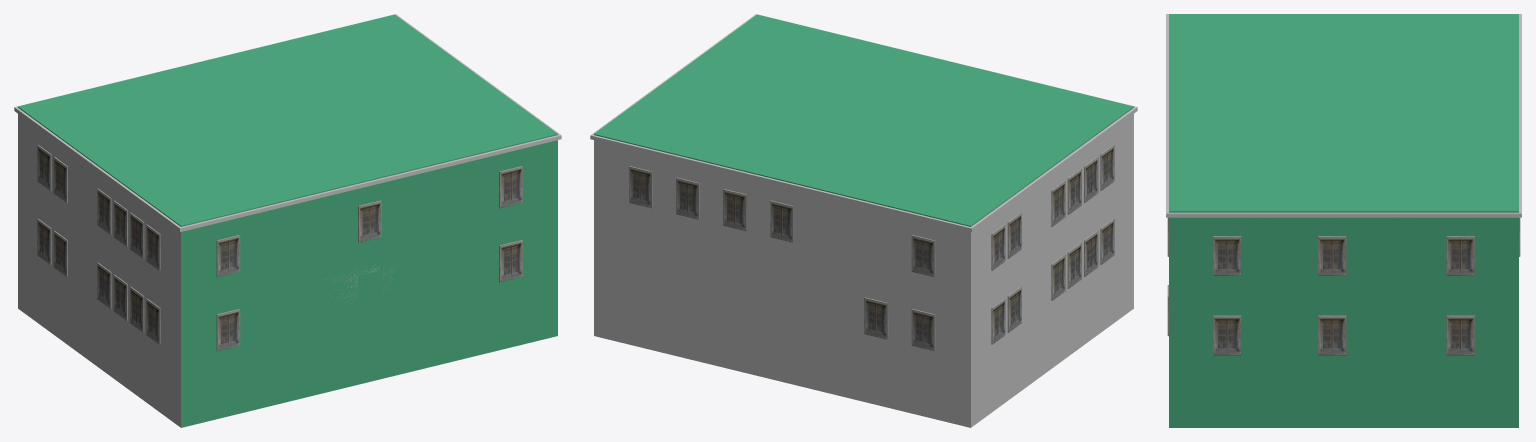
Rendered from ind_bld_04.dae.
3 renders of one model, left to right at view 1: azimuth 30°, elevation 25°; view 2: azimuth 150°, elevation 25°; view 3: azimuth 270°, elevation 25°, orthographic. The views are drawn at different scales.
Visible parts, largest first — view 1: Colmesh-1, ind_bld_c300, ind_bld_c80; view 2: ind_bld_c300, Colmesh-1, nd_bld_c50, ind_bld_c80; view 3: Colmesh-1, ind_bld_c80, ind_bld_c300.
Part boxes in pixels (x1=…): Colmesh-1: x1=18, y1=14, x2=557, y2=427; ind_bld_c300: x1=14, y1=14, x2=561, y2=427; ind_bld_c80: x1=37, y1=145, x2=521, y2=348; ind_bld_c300: x1=590, y1=14, x2=1137, y2=427; Colmesh-1: x1=594, y1=14, x2=1133, y2=226; nd_bld_c50: x1=594, y1=140, x2=970, y2=427; ind_bld_c80: x1=594, y1=140, x2=1114, y2=427; Colmesh-1: x1=1169, y1=14, x2=1518, y2=427; ind_bld_c80: x1=1214, y1=239, x2=1473, y2=352; ind_bld_c300: x1=1166, y1=14, x2=1521, y2=355.
Bounding box in the file's own units: 16.2 × 12.2 × 8.19.
